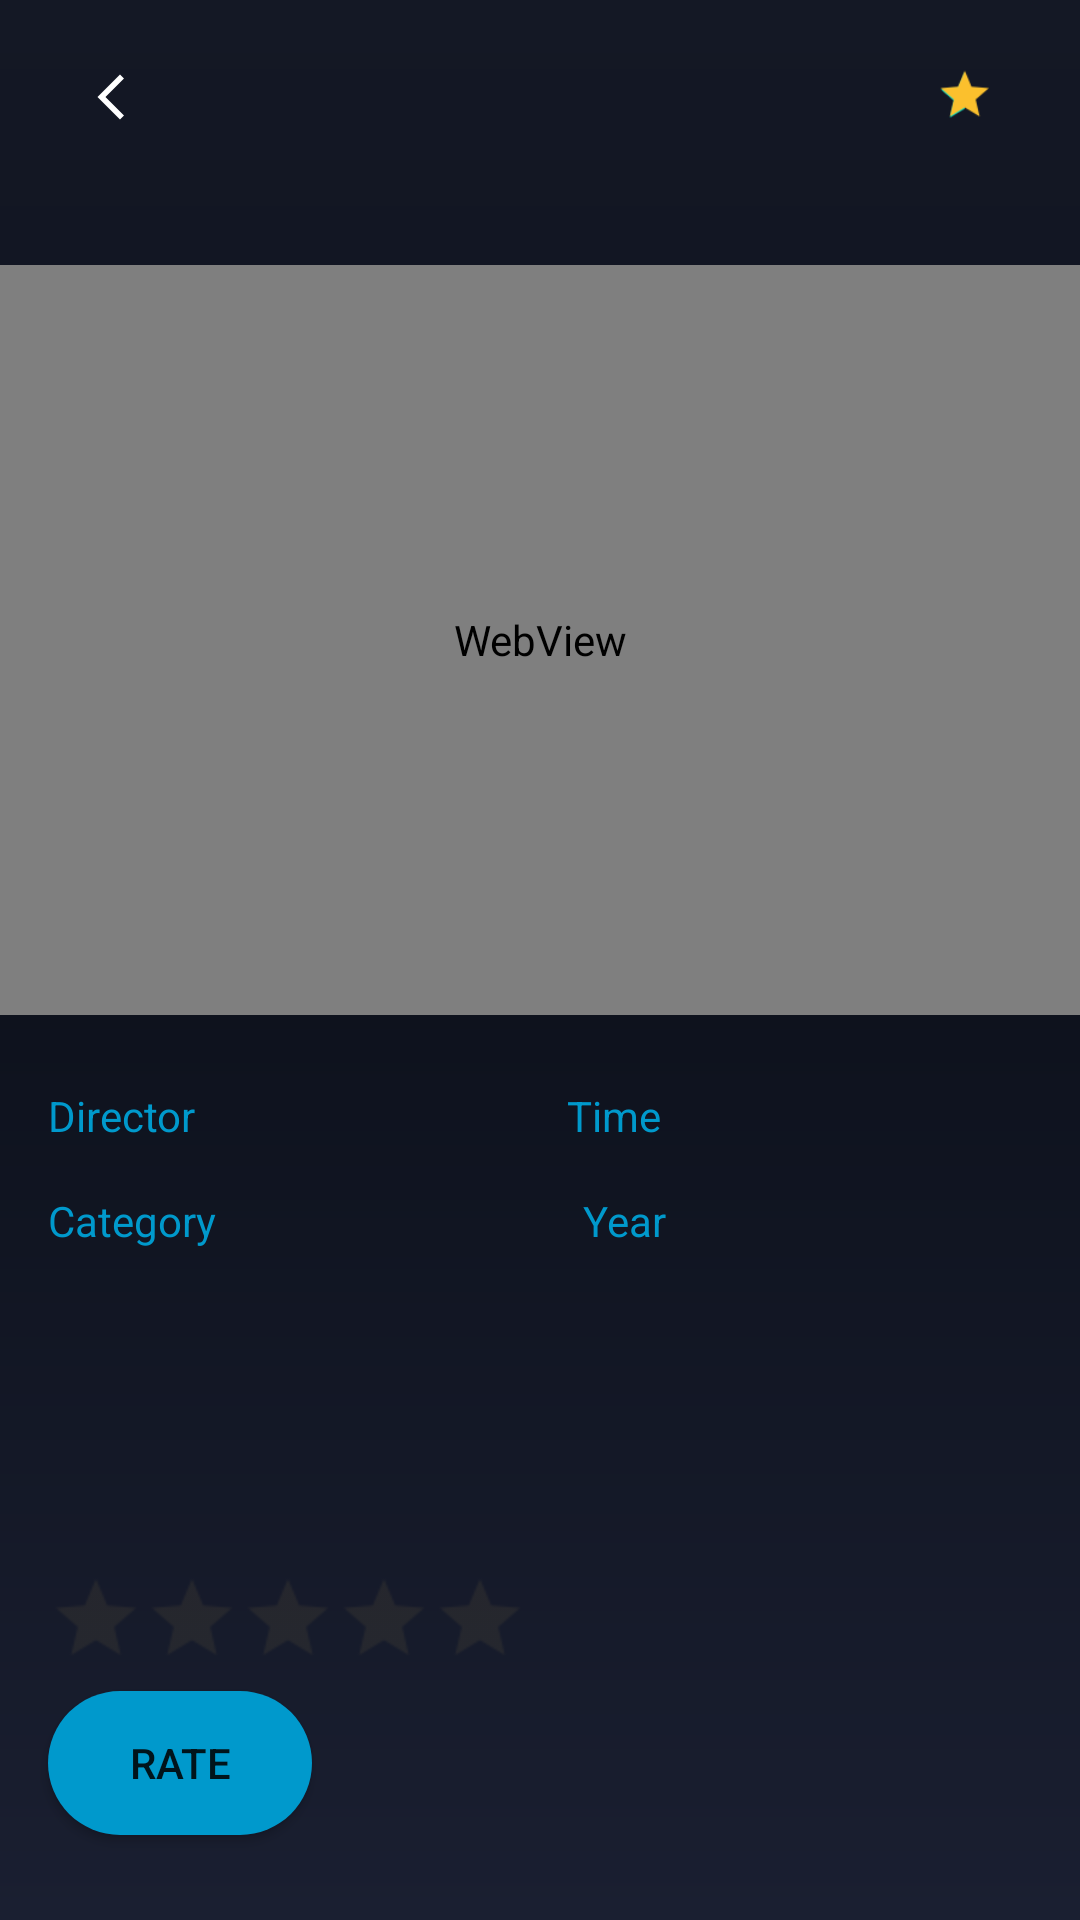

Icon bounding boxes for this 1080*1920 phone screenshot, format (x1,y1,x2,y2):
arrow back: (97,74,124,120)
